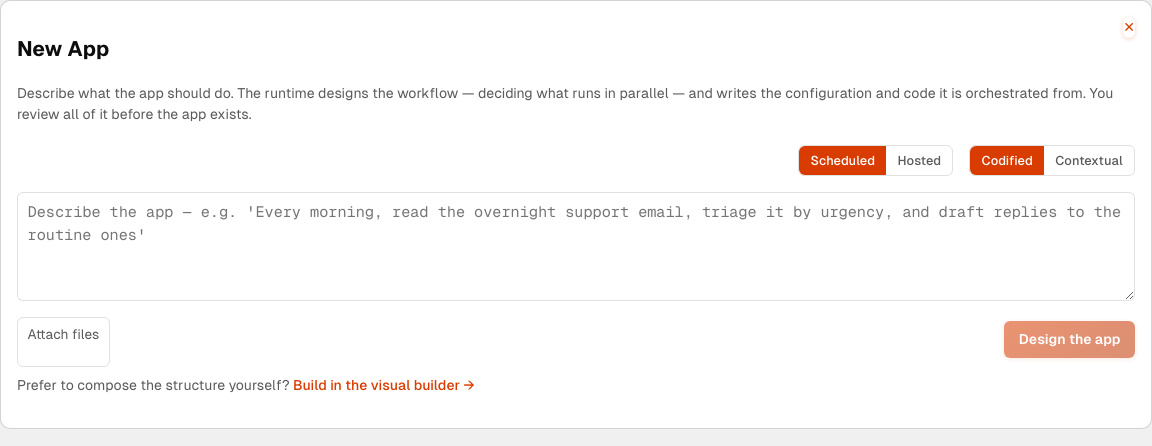
Test case: the authoring-mode toggle › DEFAULTS TO CODIFIED and switches to Contextual
Expected: the text with test id "new-app-lede" shows "orchestrated from", [17,85,1113,122]
Click the button with test id "new-app-mode-contextual".
click(1089, 161)  # box [1044,146,1134,175]
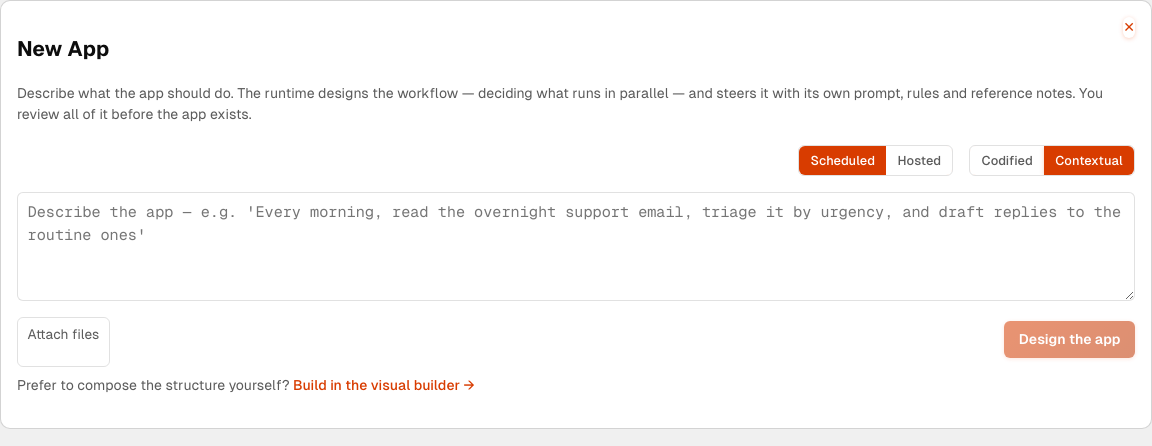
Now the text with test id "new-app-lede" shows "reference notes", box [17,85,1103,122]
